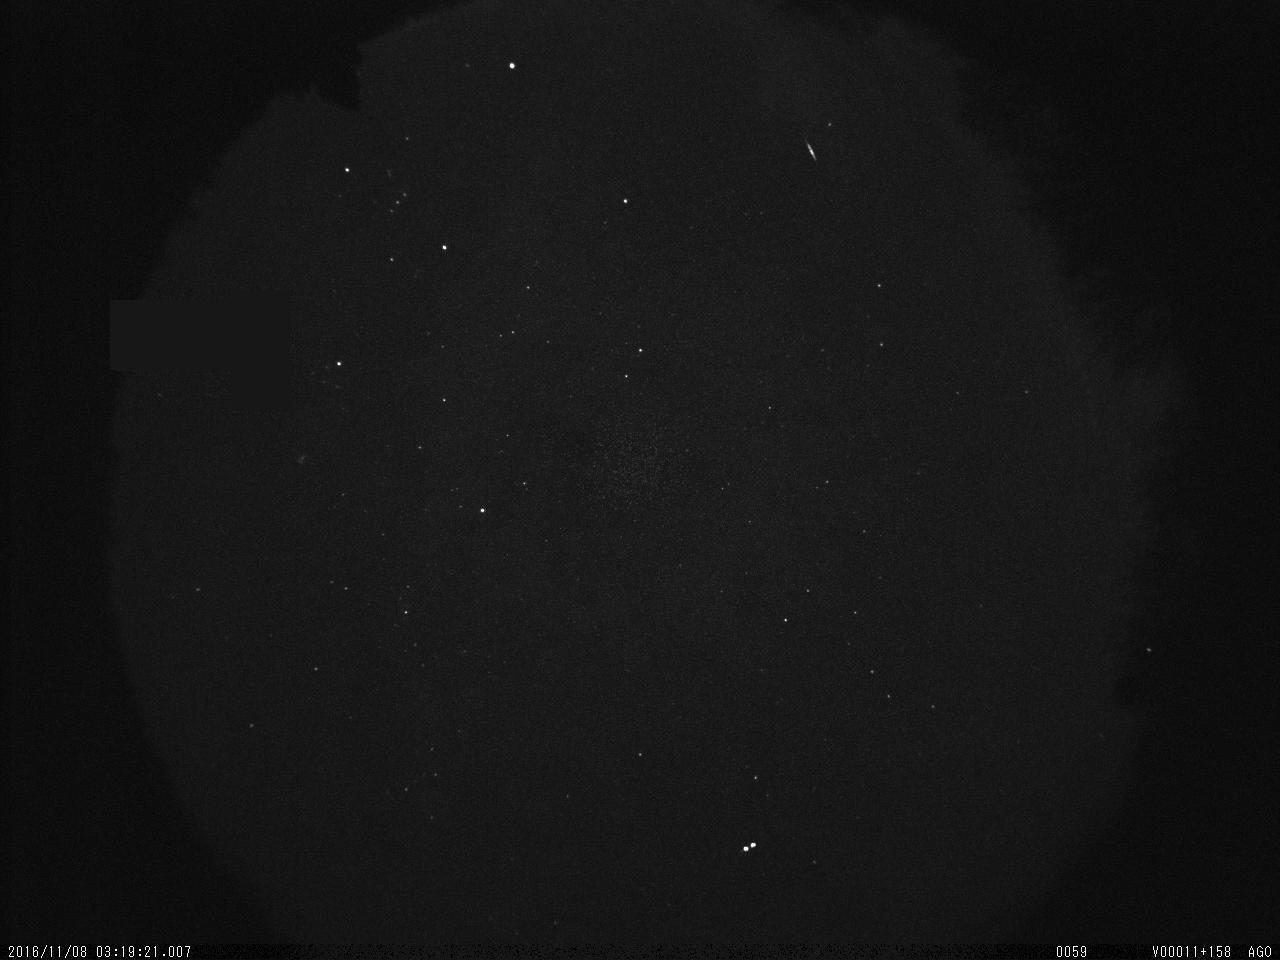meteor: (796, 134, 830, 174)
